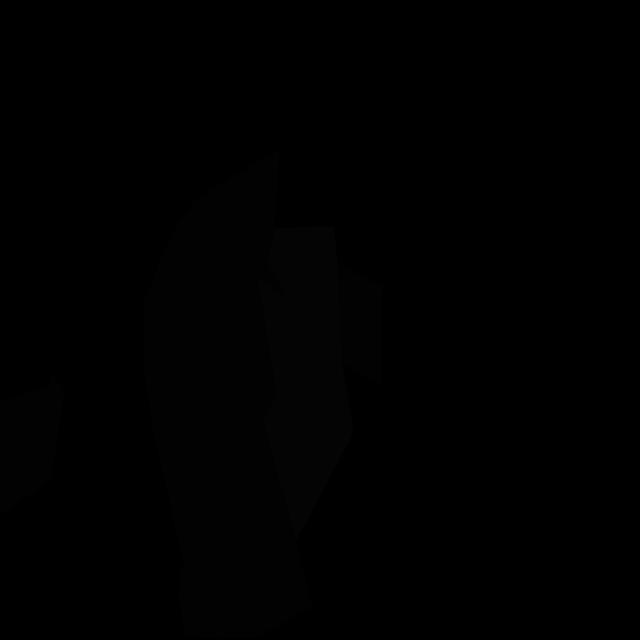cardboard: (144, 148, 312, 639), (0, 373, 64, 516), (338, 263, 382, 385)
soft_plastic: (256, 226, 354, 541)
